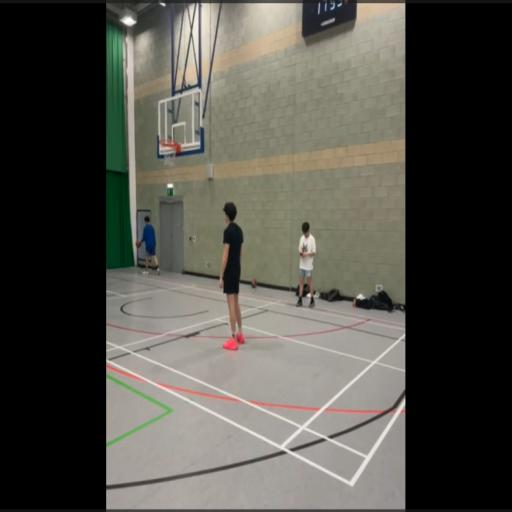hoops: (155, 132, 184, 172)
